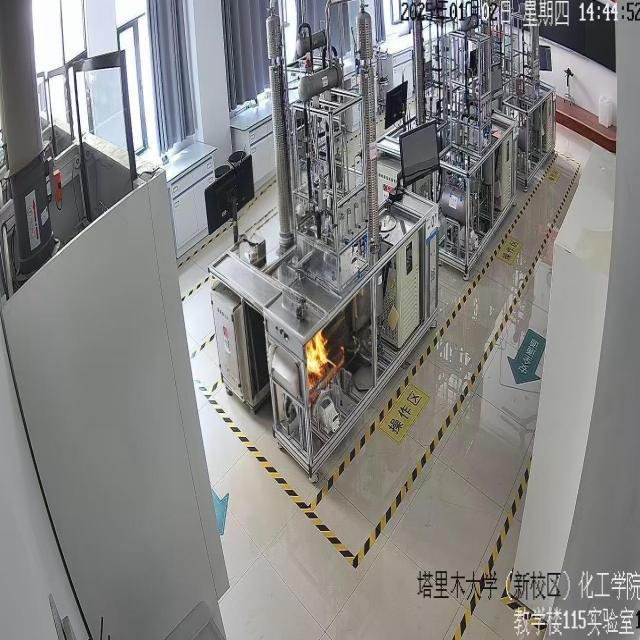smoke: (305, 330, 333, 395)
